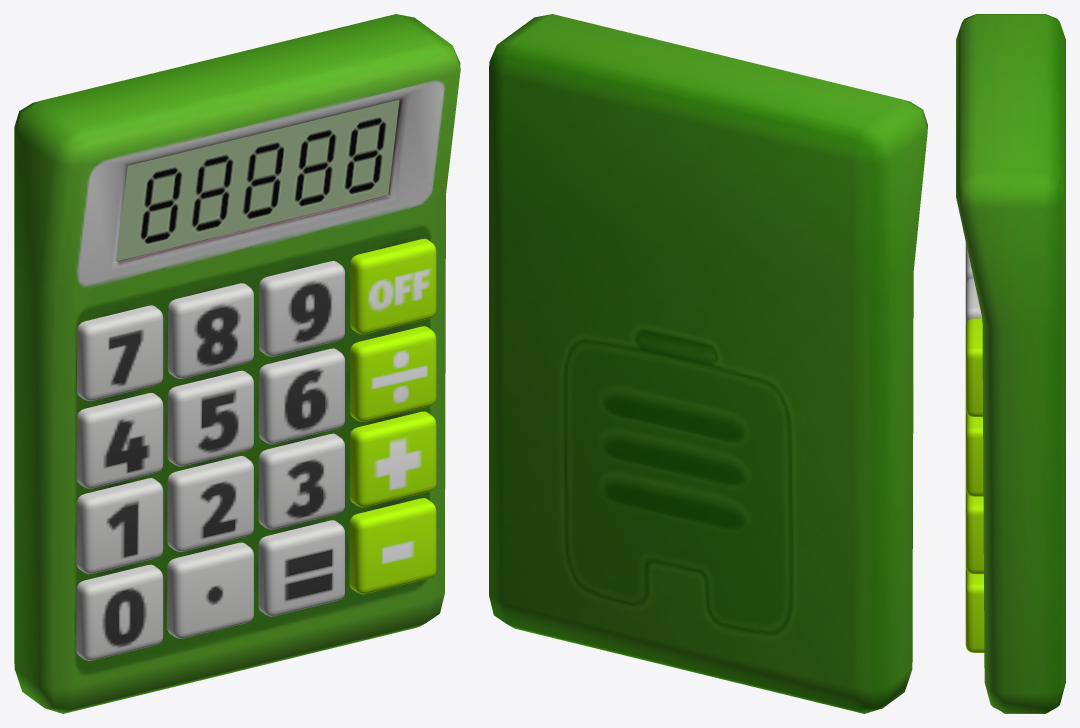
Rendered from calculator.fbx.
The picture shows the model from 3 angles, left to right: view 1: azimuth 30°, elevation 25°; view 2: azimuth 150°, elevation 25°; view 3: azimuth 270°, elevation 25°; orthographic projection. The views are drawn at different scales.
Visible parts, largest first — view 1: calculator; view 2: calculator; view 3: calculator.
Boxes of the visible parts, x1,y1,x2,y2 form: calculator: (14, 14, 460, 713); calculator: (489, 14, 927, 713); calculator: (956, 14, 1065, 713).
Bounding box in the file's own units: 82.03 × 115 × 21.12.
